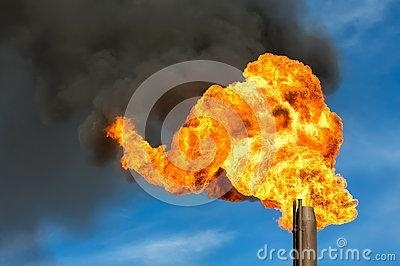fire: (106, 47, 355, 225)
